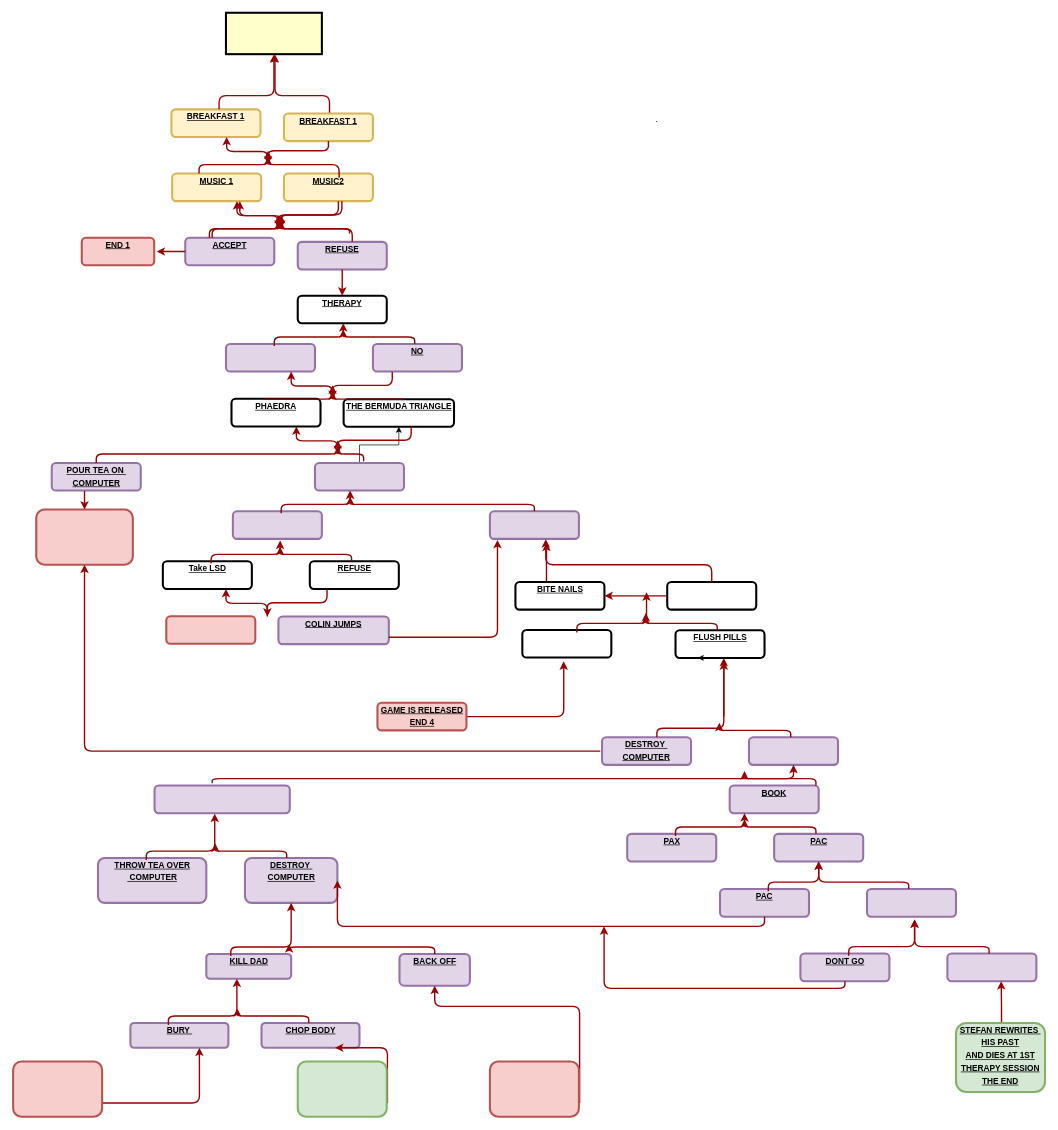
Some shapes in this 1058 by 1130 pixel diagram are drawn without their labels. Here are the shapes that lost their labels. From the top down, the centre of each, then its label:
point (274, 33): BANDERSNATCH
point (270, 357): YES
point (359, 476): SHOUT AT DAD
point (84, 536): DESTROYS COMPUTER FORCED TO DROP OUT OF PROJECT END 2
point (277, 525): FOLLOW COLIN
point (534, 525): DR.HYNES
point (711, 595): PULL EAR
point (210, 629): STEFAN JUMPS END 3
point (566, 643): TAKE PILLS
point (793, 751): HIT DESK
point (221, 799): FAMILY PHOTO
point (911, 902): TOY
point (991, 967): GO WITH MOM
point (57, 1088): ARRESTED FOR MURDER. END 5
point (341, 1088): GAME IS RELEASED 5/5 ENDING THE END
point (534, 1088): GAME NEVER RELEASED DUE TO STRESS
